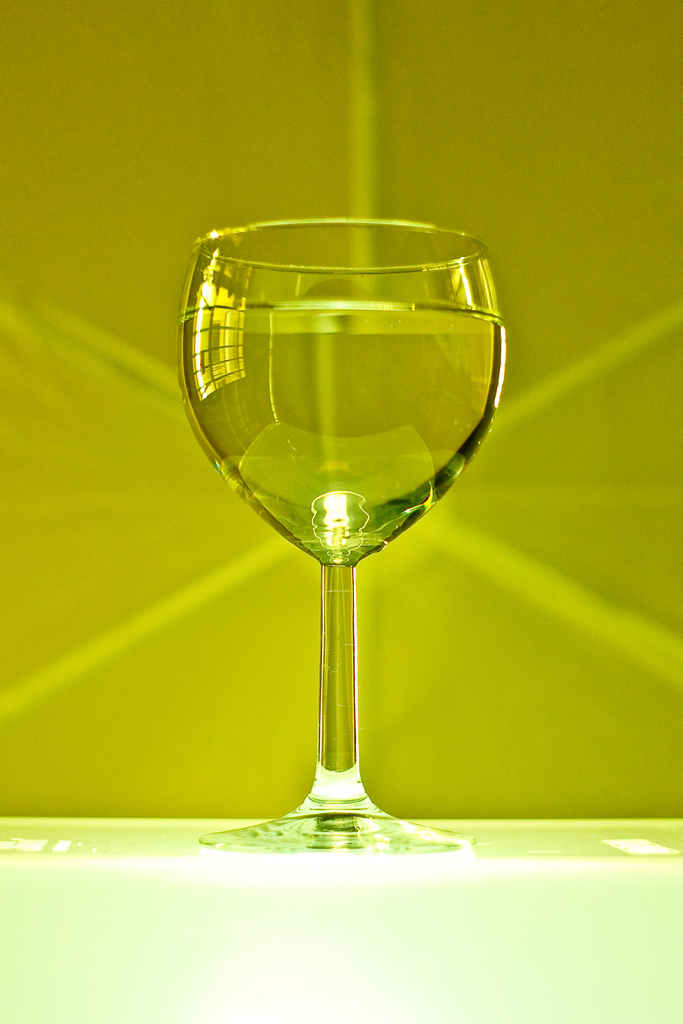glass of water: (194, 218, 496, 854)
